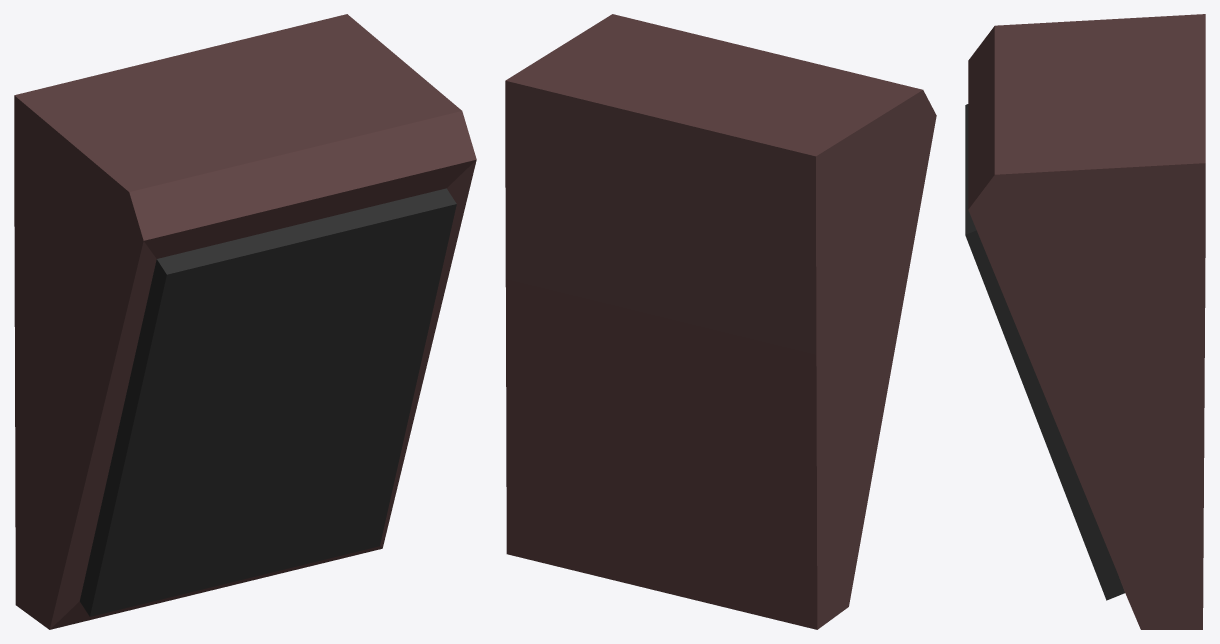
Rendered from Speaker.fbx.
3 views of the same model, side by side, from view 1: azimuth 30°, elevation 25°; view 2: azimuth 150°, elevation 25°; view 3: azimuth 270°, elevation 25° (orthographic). The views are drawn at different scales.
Visible parts, largest first — view 1: Speaker; view 2: Speaker; view 3: Speaker.
Part boxes in pixels (x1,y1,x2,y2): Speaker: (14,14,476,629); Speaker: (505,14,936,629); Speaker: (965,14,1205,629).
Size of the model in its own units: 28.48 by 41.58 by 19.42.
